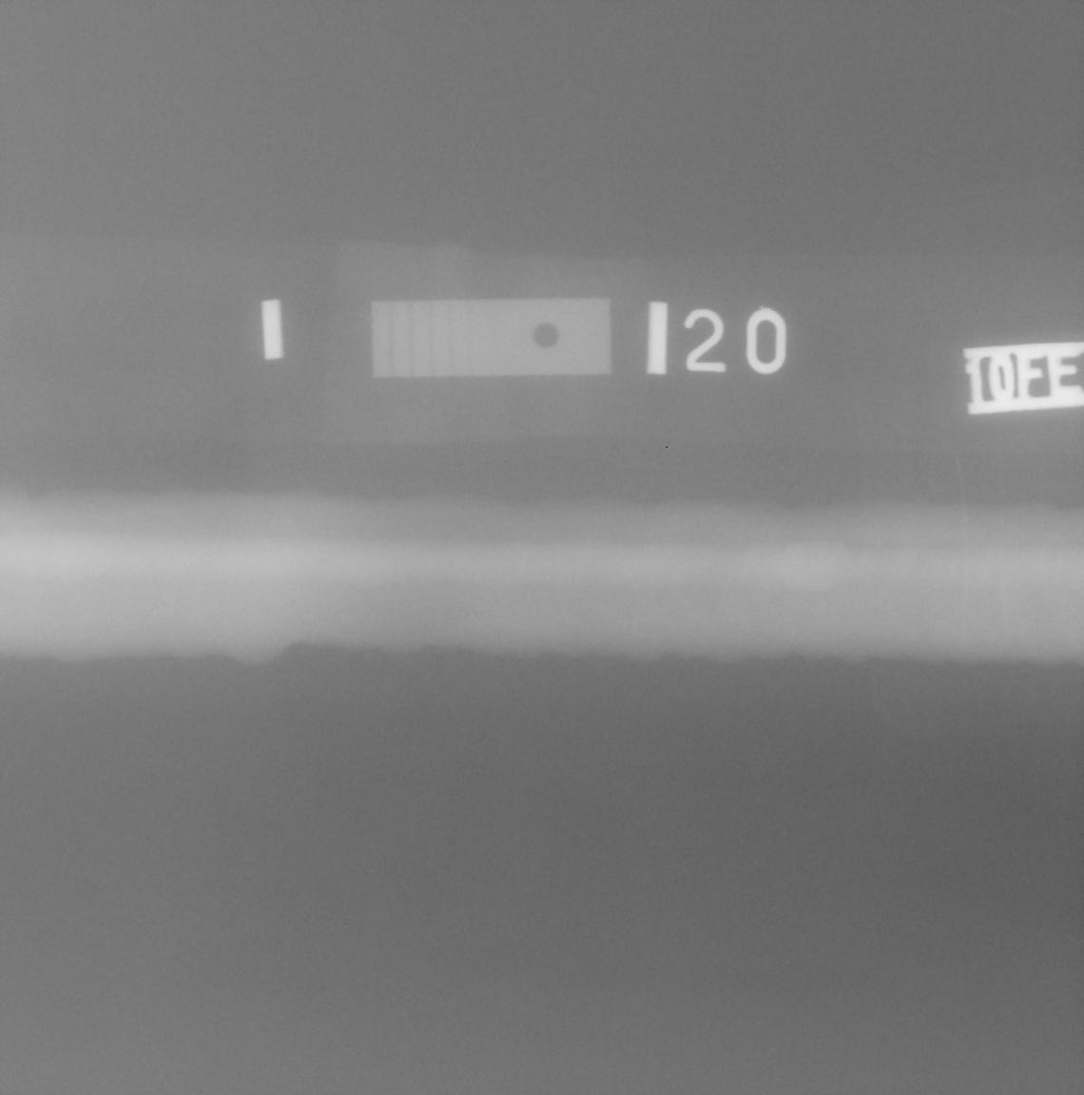Reference Standard 1: (371, 297, 612, 378)
